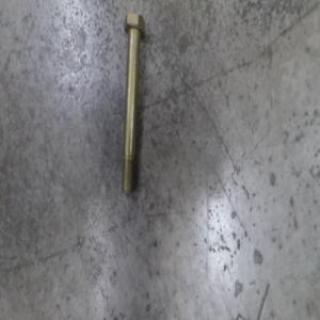Bolttrack_idkeyframe: (119, 10, 145, 196)
